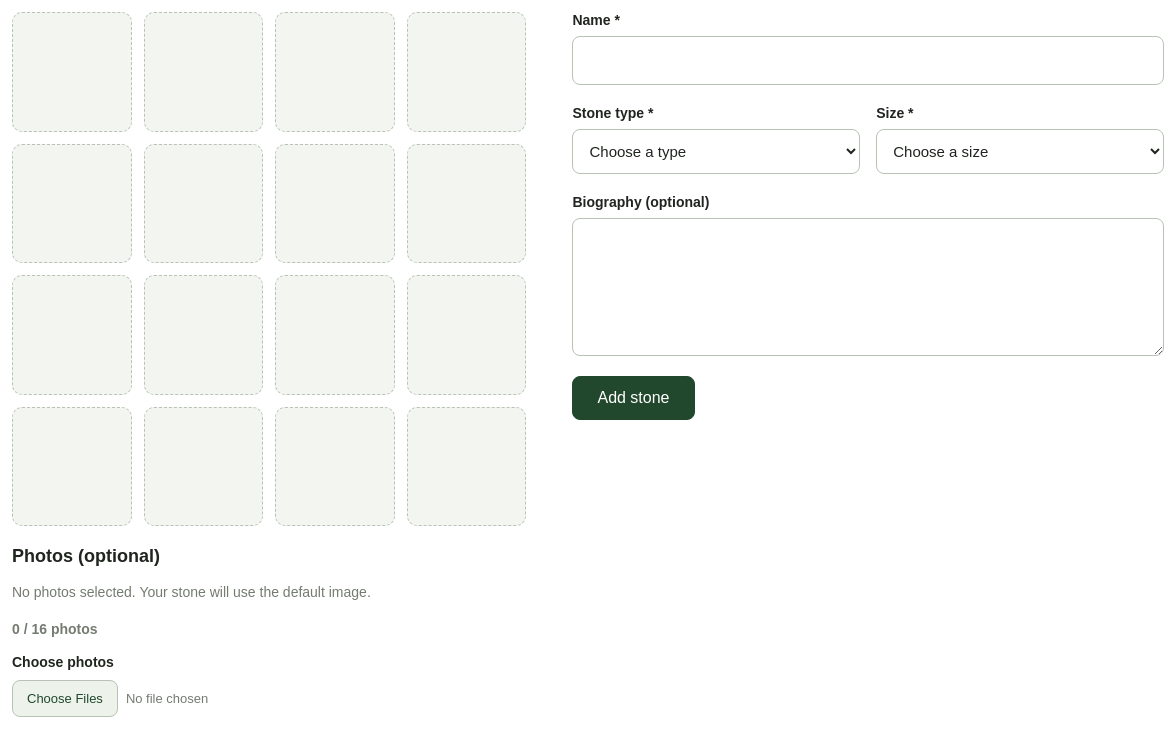
Scenario: missing fields expose associated errors, focus the first control and prevent submission
The width and height of the screenshot is (1176, 730).
What coordinates should you click on to do the following:
click the button "Add stone"
I would click on:
 (634, 398)
Its box is [572,376,695,420].
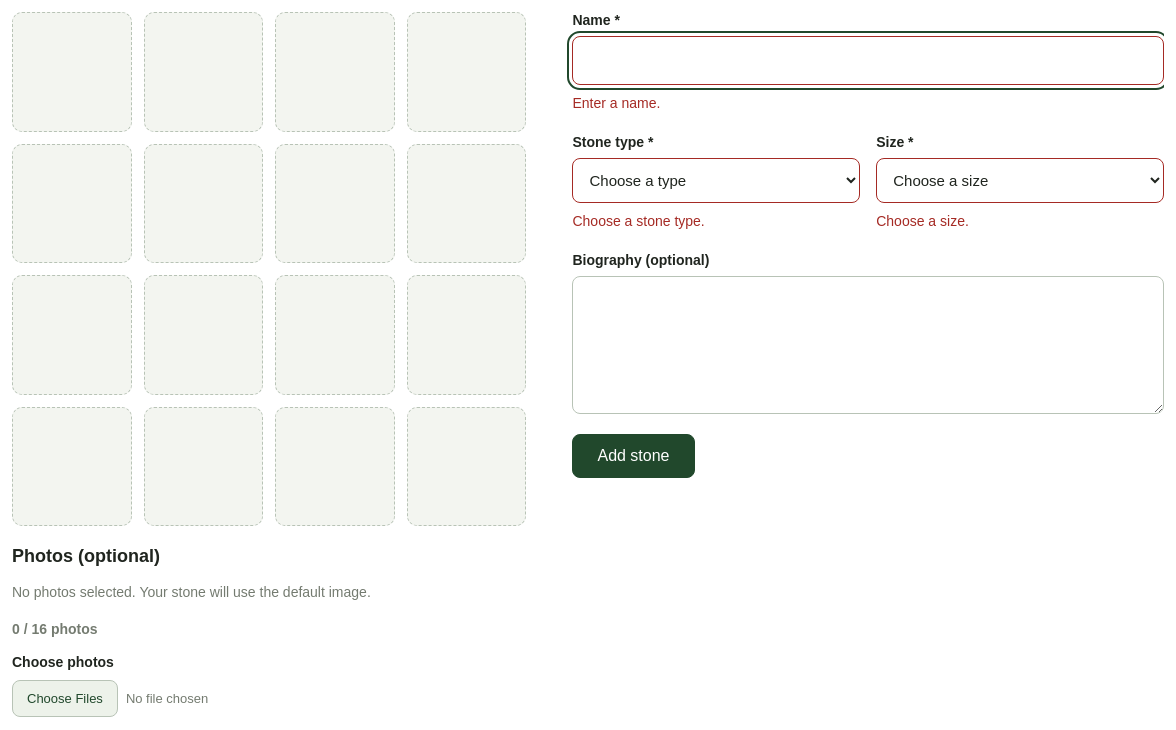
Check: the text "Choose a stone type." is shown, box [572,212,705,228]
Check: the text "Choose a size." is shown, box [876,212,969,228]
